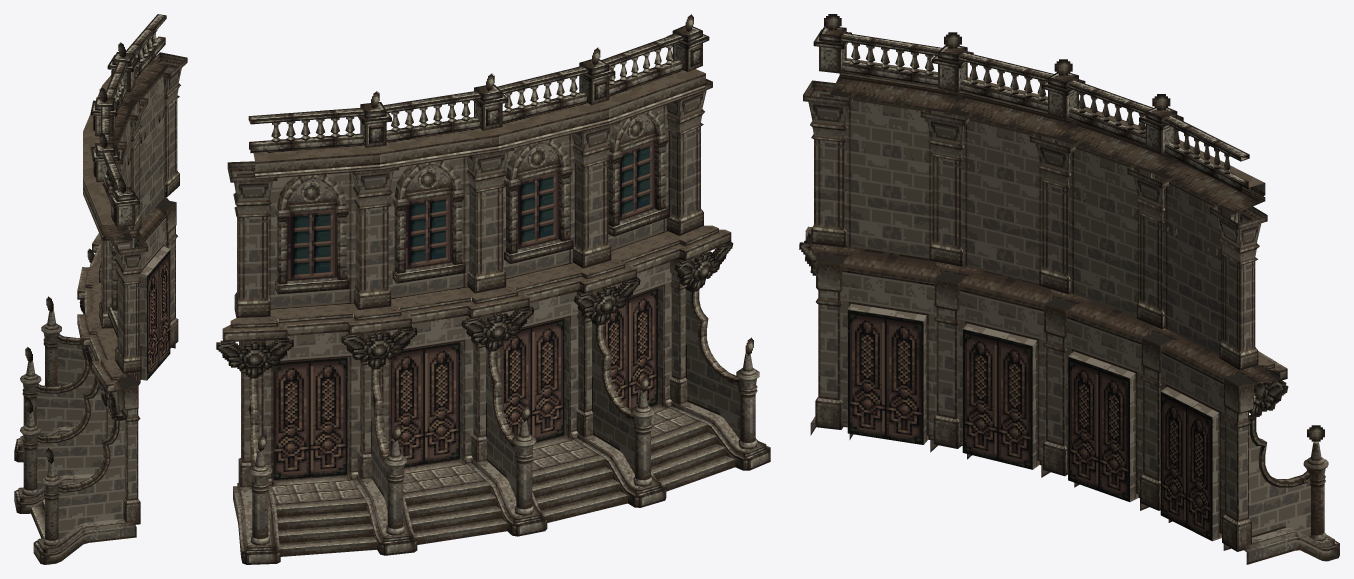
Rendered from EnvBdgMD_Theater_A_Outdoor_Wall_A_L.FBX.
3 views of the same model, side by side, from view 1: azimuth 30°, elevation 25°; view 2: azimuth 150°, elevation 25°; view 3: azimuth 270°, elevation 25° (orthographic). The views are drawn at different scales.
Parts seen in each view (by area): view 1: EnvBdgMD_Theater_A_Outdoor_Wall_A_L; view 2: EnvBdgMD_Theater_A_Outdoor_Wall_A_L; view 3: EnvBdgMD_Theater_A_Outdoor_Wall_A_L.
Part boxes in pixels (bbox=[...]): EnvBdgMD_Theater_A_Outdoor_Wall_A_L: bbox=[14, 14, 187, 564]; EnvBdgMD_Theater_A_Outdoor_Wall_A_L: bbox=[216, 14, 770, 564]; EnvBdgMD_Theater_A_Outdoor_Wall_A_L: bbox=[799, 14, 1339, 564].
Bounding box in the file's own units: 954 × 1080 × 1204.
Materials: 1 (1 with a texture image).
